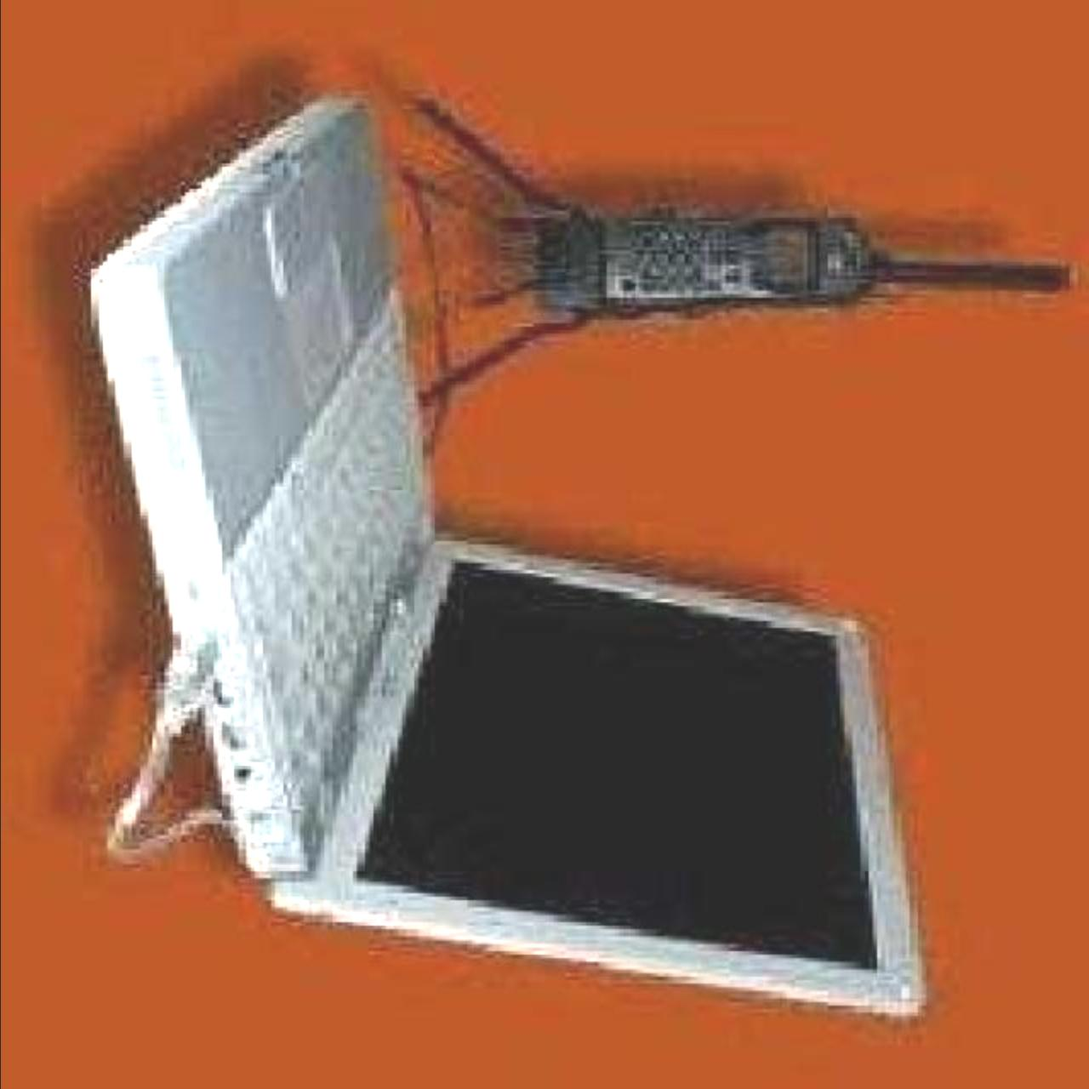laptop: (68, 217, 939, 1035)
